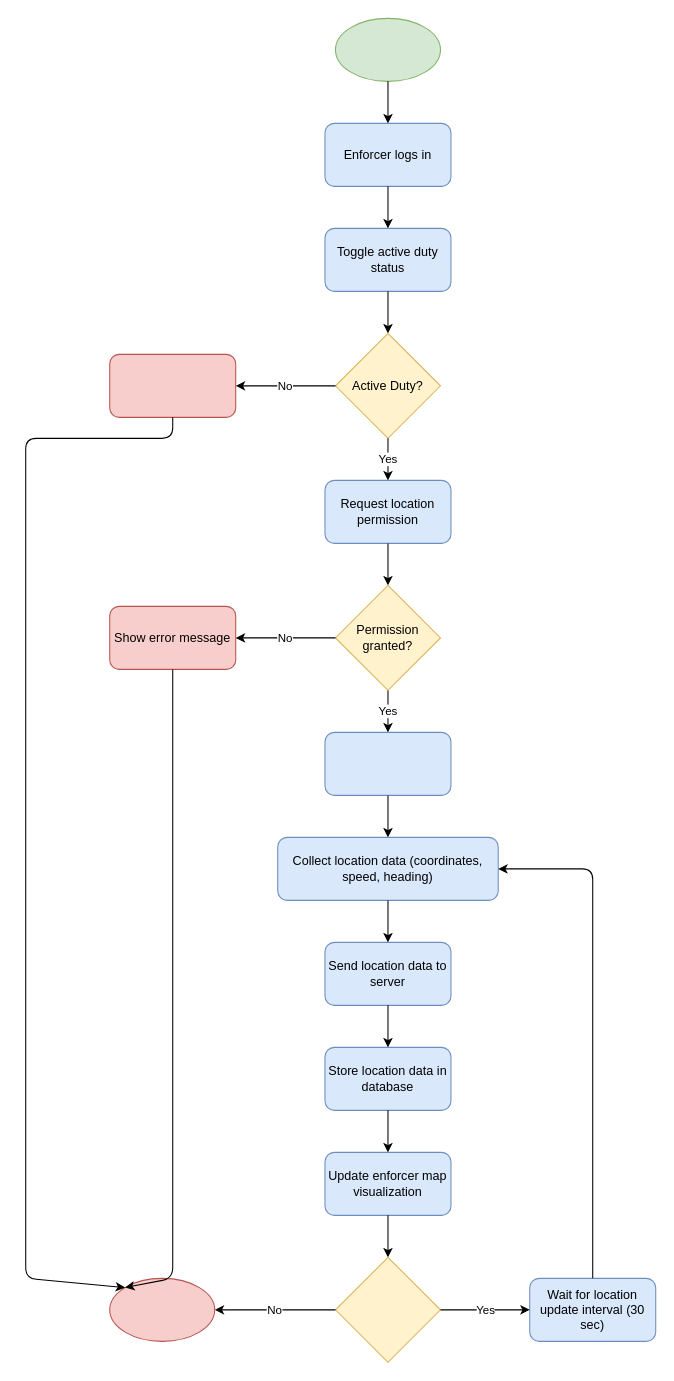
Image size: 674x1381. Some labels were removed from this diagram. Here are the shapes that lost their labels. From the top down, the centre of each, then its label:
the point at 387,49: Start
the point at 172,385: Location tracking disabled
the point at 387,763: Start location tracking
the point at 162,1309: End
the point at 387,1309: Still active duty?
